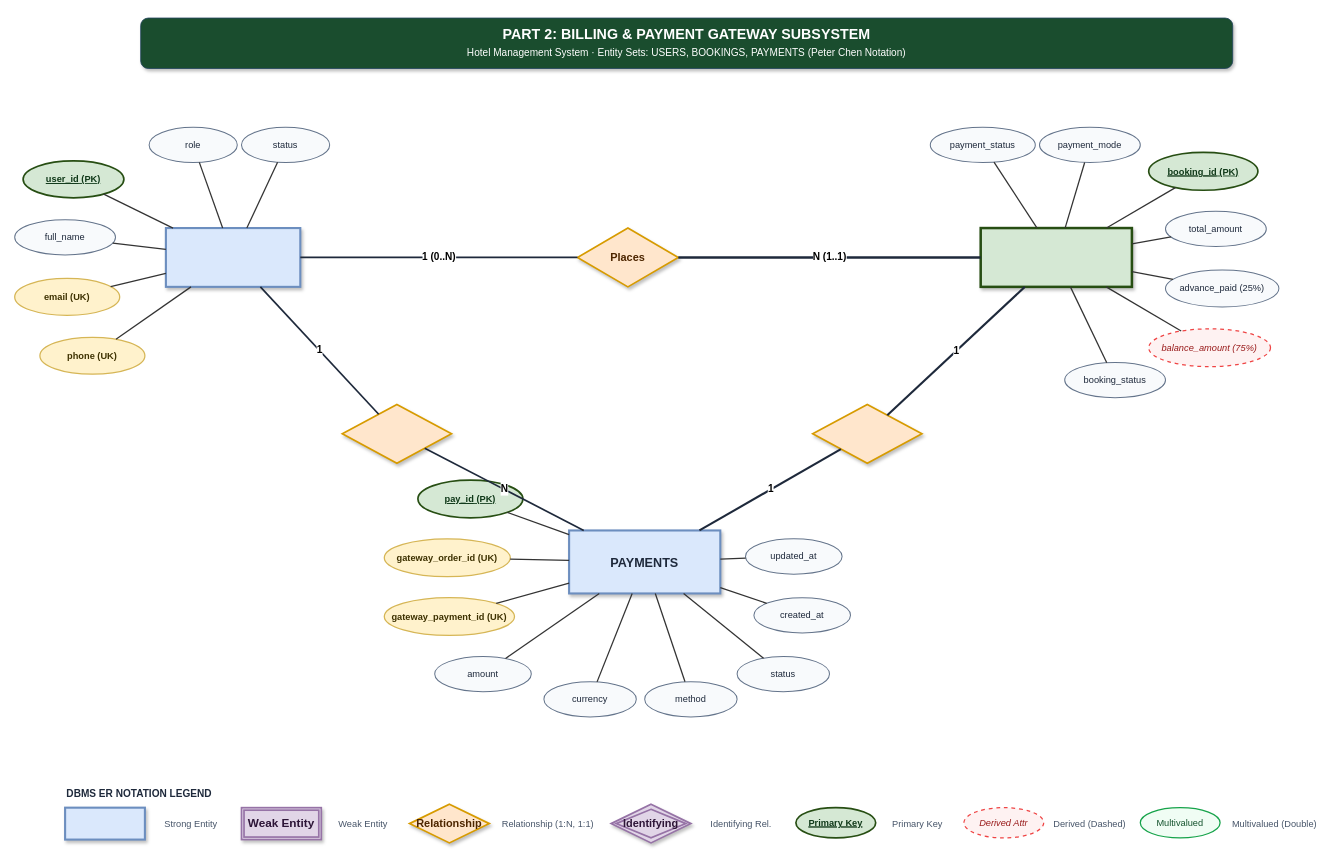
This 1340x864 diagram has some shape labels left out. Each missing label, with the centre of its shape:
"Authorizes" goes at (x=397, y=435).
"BOOKINGS" goes at (x=1057, y=258).
"Entity Set" goes at (x=105, y=824).
"Paid_Via" goes at (x=867, y=435).
"USERS" goes at (x=233, y=258).
